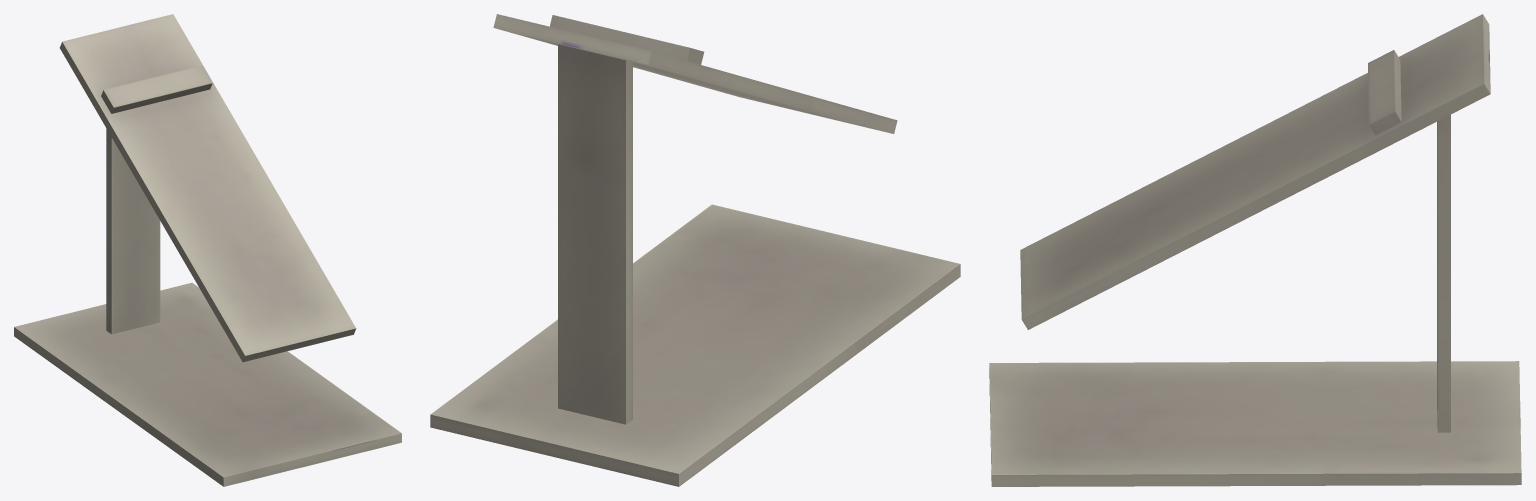
Rendered from ShoeStand.fbx.
3 views of the same model, side by side, from view 1: azimuth 30°, elevation 25°; view 2: azimuth 150°, elevation 25°; view 3: azimuth 270°, elevation 25° (orthographic). The views are drawn at different scales.
Parts seen in each view (by area): view 1: ShoeStand; view 2: ShoeStand; view 3: ShoeStand.
Part boxes in pixels (bbox=[...]): ShoeStand: bbox=[14, 14, 401, 486]; ShoeStand: bbox=[430, 14, 960, 486]; ShoeStand: bbox=[989, 14, 1521, 486].
Bounding box in the file's own units: 13.8 × 21.51 × 27.27.
